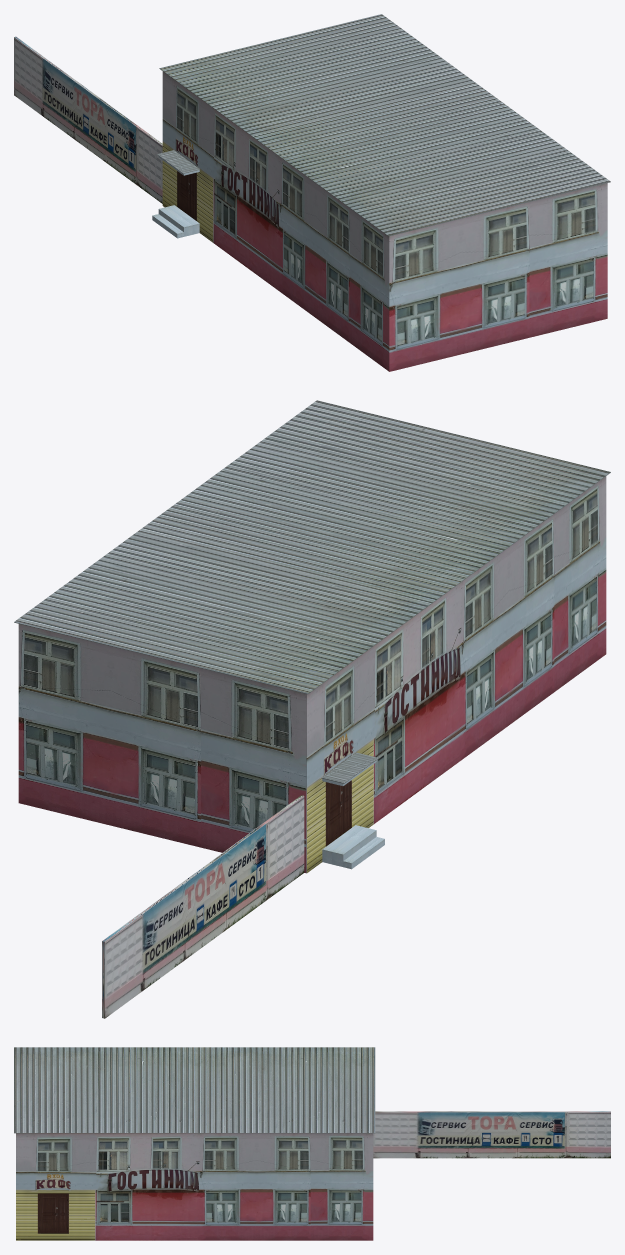
File: r402_tukalinsk_kafe3.FBX
3 views of the same model, one above another, from view 1: azimuth 30°, elevation 25°; view 2: azimuth 150°, elevation 25°; view 3: azimuth 270°, elevation 25° (orthographic). The views are drawn at different scales.
Parts seen in each view (by area): view 1: r402_tukalinsk_kafe3; view 2: r402_tukalinsk_kafe3; view 3: r402_tukalinsk_kafe3.
Boxes of the visible parts, x1,y1,x2,y2 form: r402_tukalinsk_kafe3: (14,14,610,371); r402_tukalinsk_kafe3: (14,400,610,1018); r402_tukalinsk_kafe3: (14,1047,610,1240).
Bounding box in the file's own units: 1112 × 3007 × 602.
